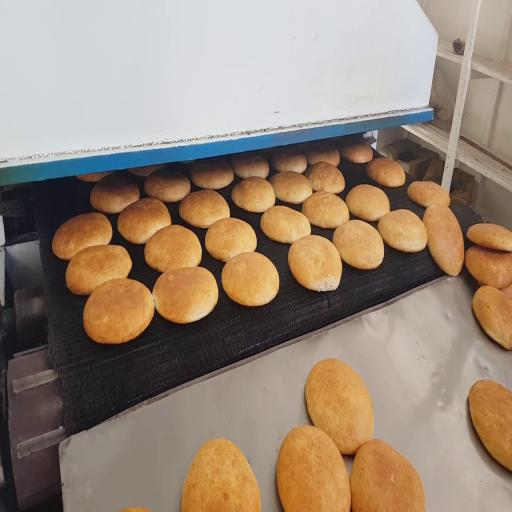bread: (306, 359, 373, 454), (277, 426, 350, 511), (181, 439, 260, 511), (350, 439, 426, 511), (84, 279, 154, 343), (469, 380, 511, 471), (153, 267, 218, 323), (66, 246, 132, 295), (222, 252, 279, 306), (288, 235, 341, 291), (423, 204, 464, 275), (52, 212, 112, 260), (145, 225, 201, 272), (333, 220, 384, 269), (472, 286, 511, 349), (118, 198, 171, 244), (205, 218, 256, 261), (378, 210, 427, 252), (90, 173, 139, 213), (179, 190, 230, 228), (465, 246, 511, 288), (261, 206, 310, 243), (302, 192, 349, 228), (346, 184, 390, 221), (144, 169, 190, 202), (232, 177, 275, 212), (270, 173, 312, 204), (191, 158, 233, 189), (306, 162, 345, 193), (467, 224, 511, 251), (367, 158, 405, 187), (407, 182, 450, 207), (271, 147, 307, 173), (232, 153, 269, 178), (305, 145, 340, 167), (340, 141, 373, 163), (128, 165, 166, 177), (77, 172, 113, 182), (502, 285, 511, 298), (121, 508, 150, 511)
